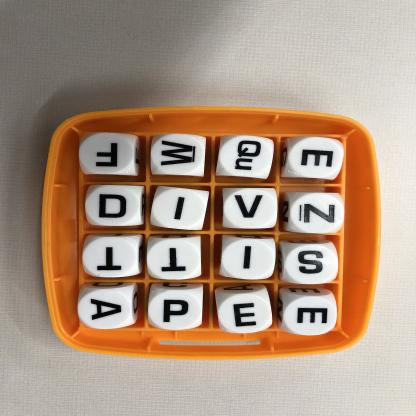a: (85, 292, 132, 327)
c: (225, 191, 278, 228)
d: (89, 189, 141, 226)
e: (289, 139, 341, 179), (219, 295, 271, 332), (287, 298, 336, 333)
f: (84, 136, 137, 175)
i: (156, 190, 205, 231), (226, 240, 275, 279)
p: (154, 293, 200, 329)
qu: (223, 137, 273, 178)
s: (287, 246, 336, 284)
t: (87, 240, 136, 278), (150, 242, 200, 279)
w: (155, 137, 203, 175)
z: (289, 197, 343, 235)
